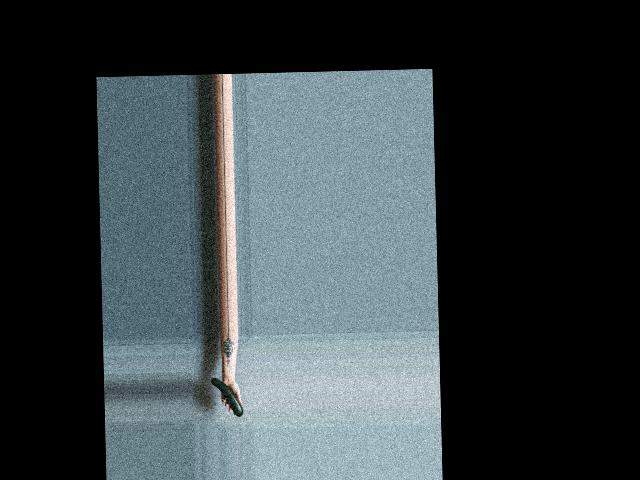cucumber: (210, 377, 242, 417)
